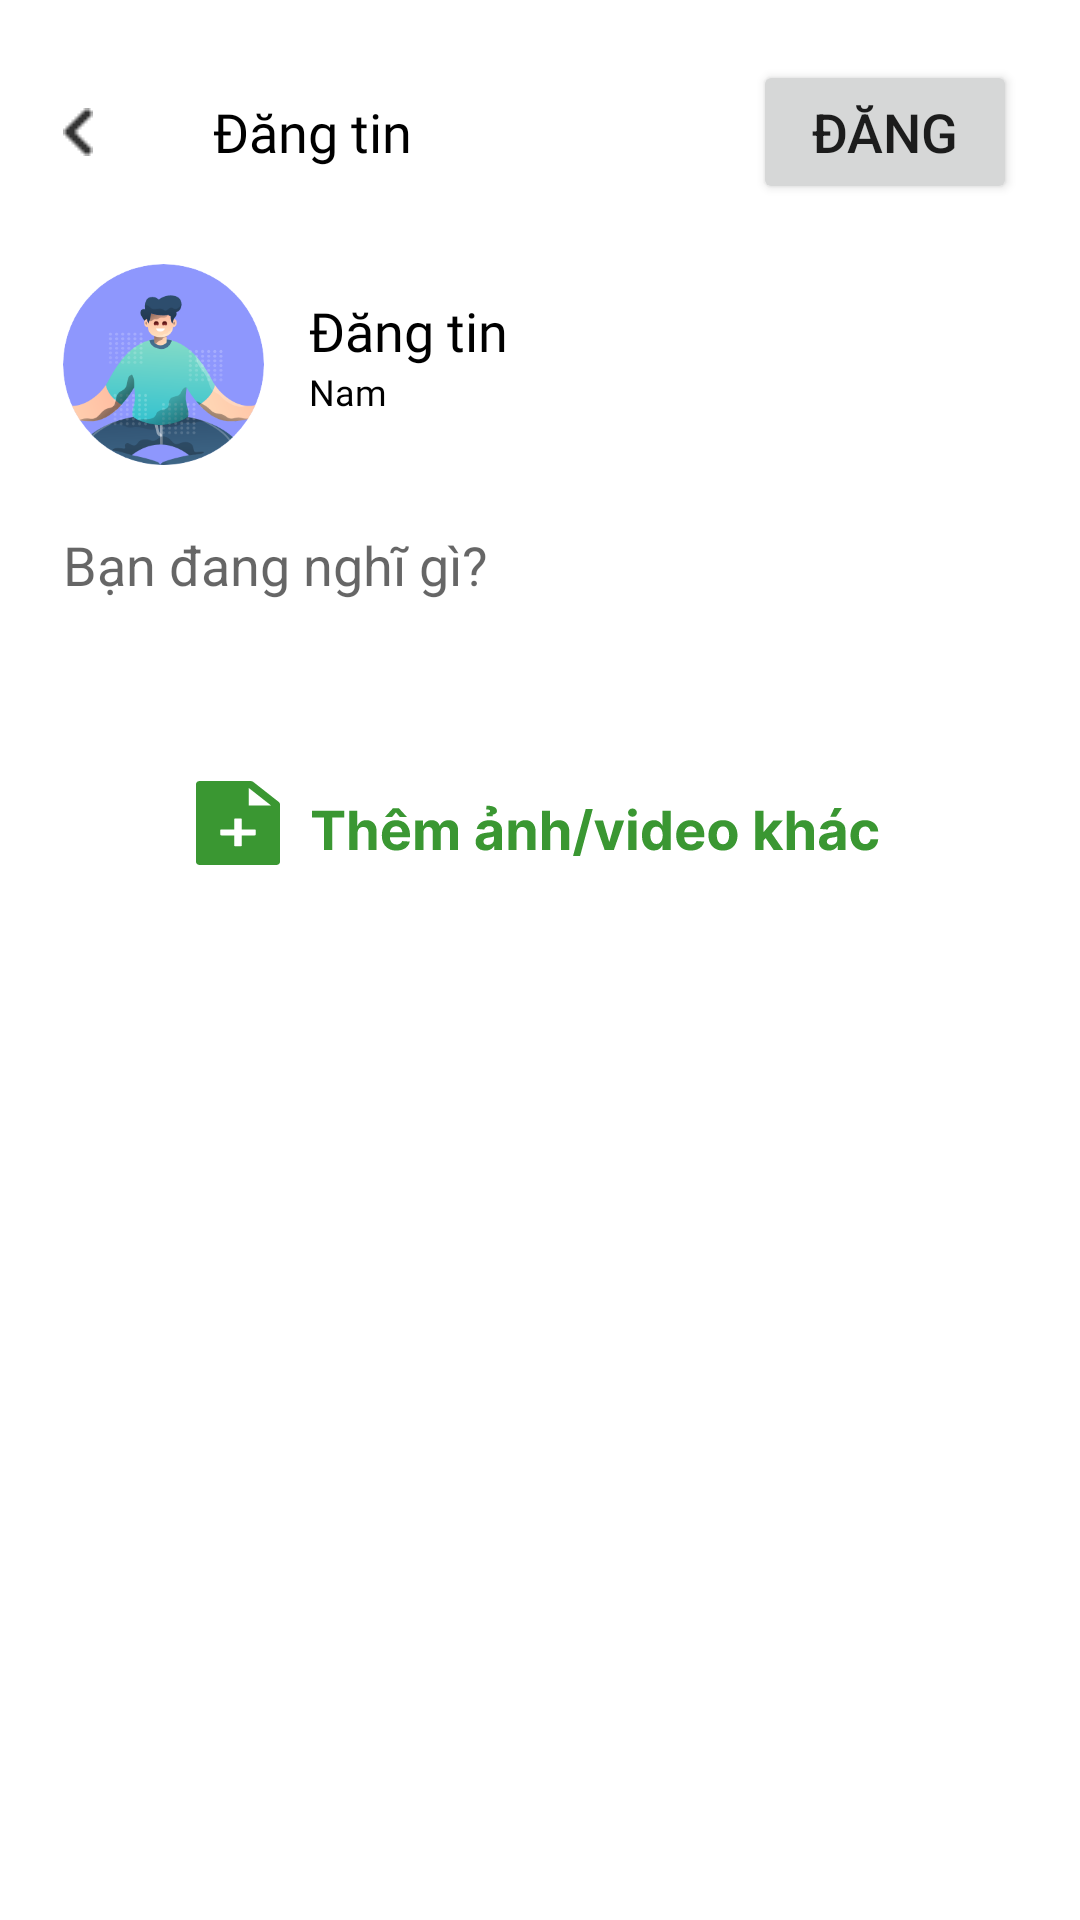

Icons on this 1080*1920 Android screen, each with the point to tap as point (x, y):
back: point (78, 132)
